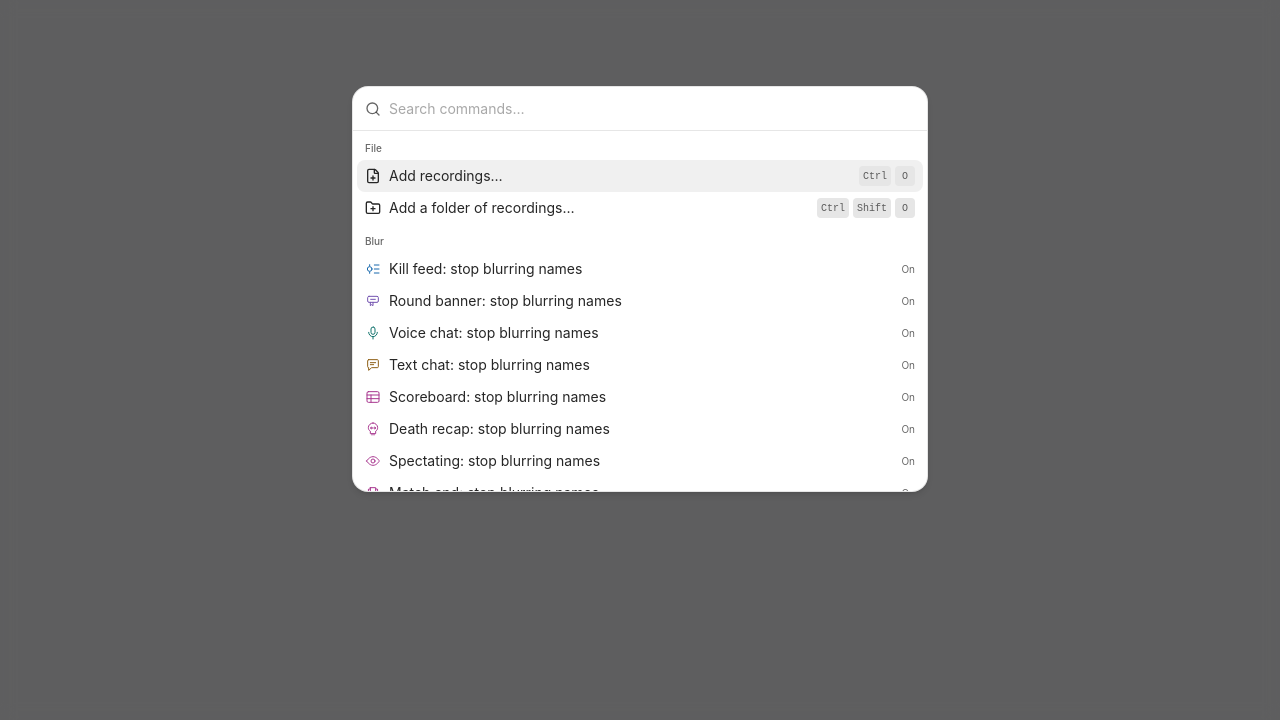
command palette › says so when nothing matches
The width and height of the screenshot is (1280, 720).
Type "zzzz no such command" into the dropdown labelled "Search commands". click: (652, 109)
box: x1=389 y1=87 x2=915 y2=130
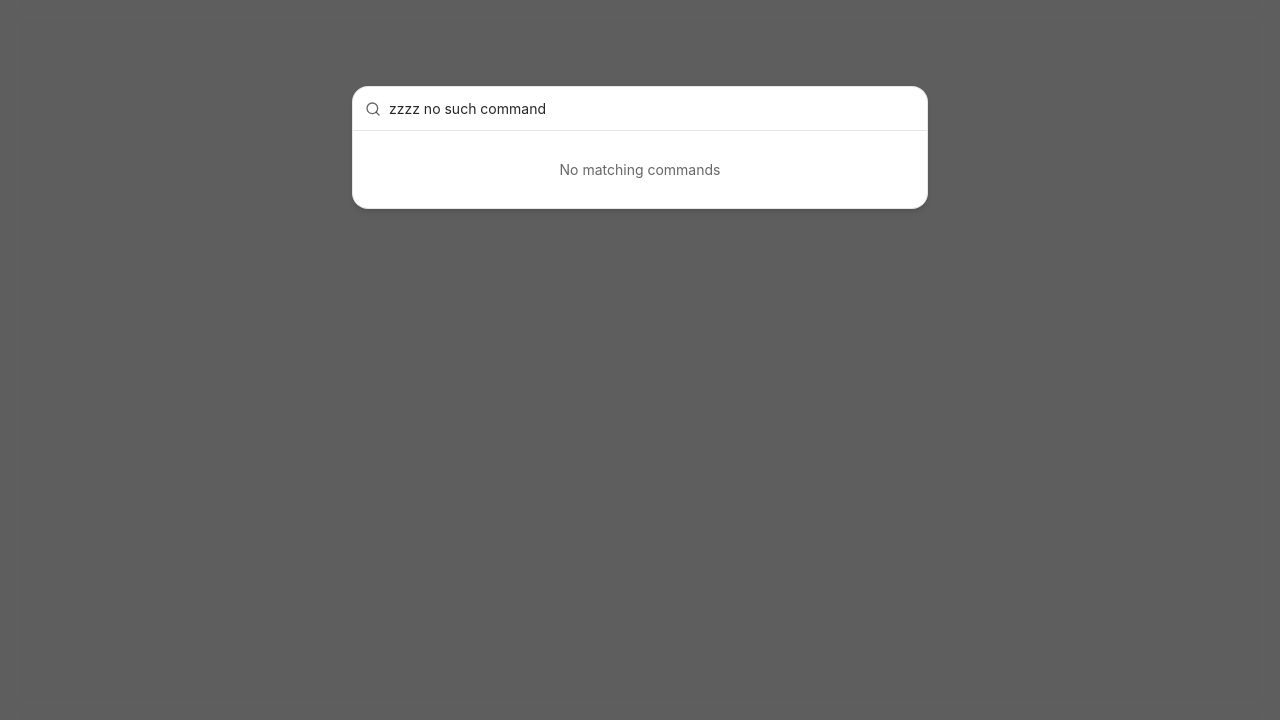
Expected: the text "No matching commands" is shown, x1=560 y1=161 x2=720 y2=178
Expected: no options are shown
